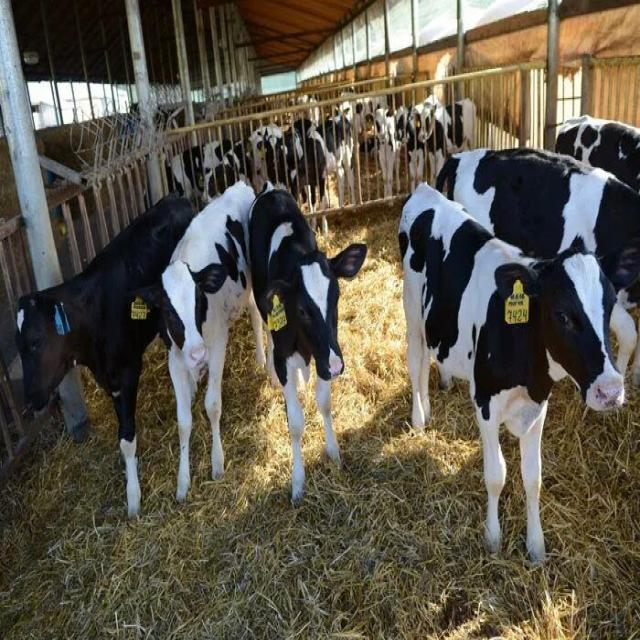cow: (14, 97, 638, 557), (396, 178, 629, 565), (13, 187, 196, 518), (433, 145, 638, 386), (127, 176, 265, 504), (246, 179, 367, 505), (554, 113, 639, 192)
